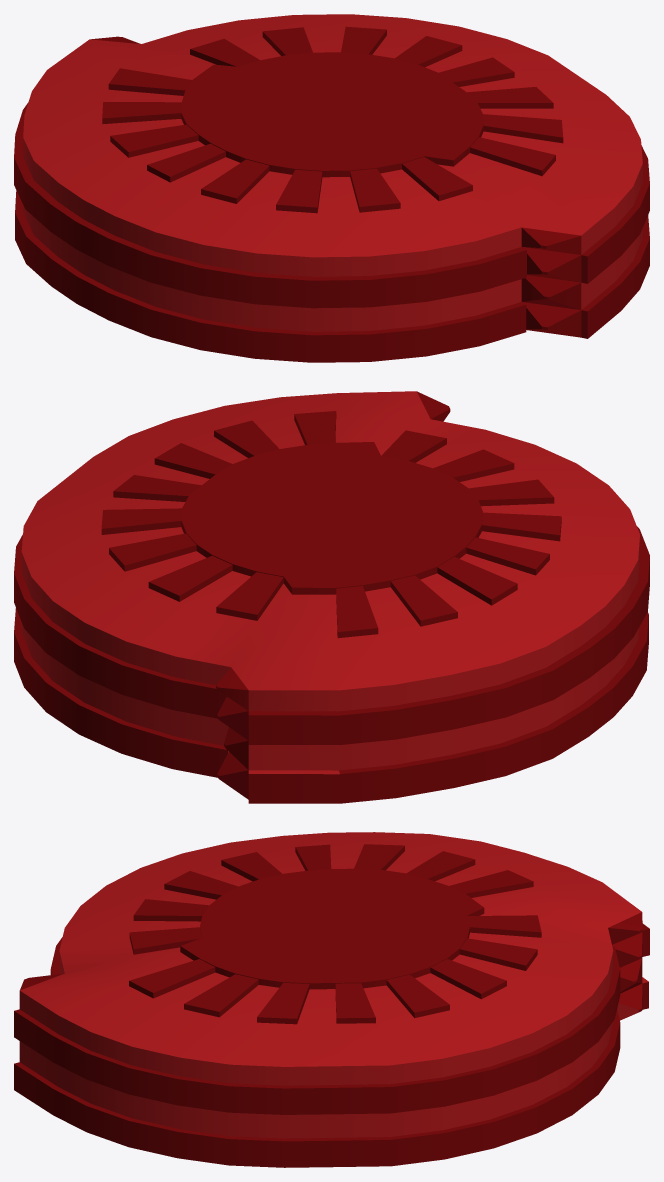
Rendered from ring4.glb.
The picture shows the model from 3 angles, top to bottom: view 1: azimuth 30°, elevation 25°; view 2: azimuth 150°, elevation 25°; view 3: azimuth 270°, elevation 25°; orthographic projection. The views are drawn at different scales.
Visible parts, largest first — view 1: ring; view 2: ring; view 3: ring.
Boxes of the visible parts, x1,y1,x2,y2 form: ring: (14,14,649,362); ring: (14,391,649,803); ring: (14,832,649,1167).
Size of the model in its own units: 0.392 by 0.0922 by 0.4364.
